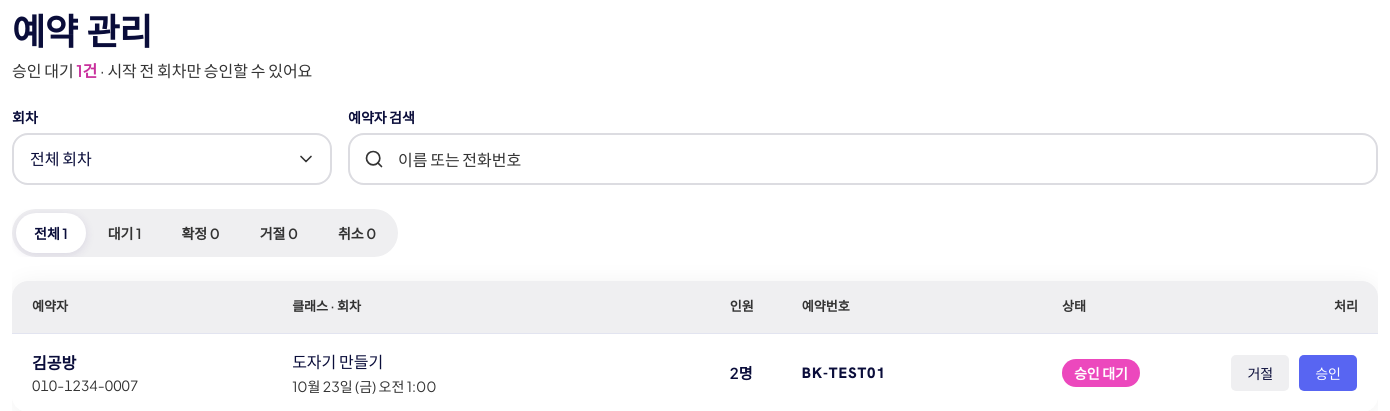
AdminBookingList 처리 › R-20: 승인은 바로 POST하고 ['admin'] 접두 쿼리를 무효화한다
The image size is (1390, 411).
Expected: the text "김공방" is shown, [32,352,76,373]
Click the button "승인" at (1328, 373), box [1298,354,1358,392]
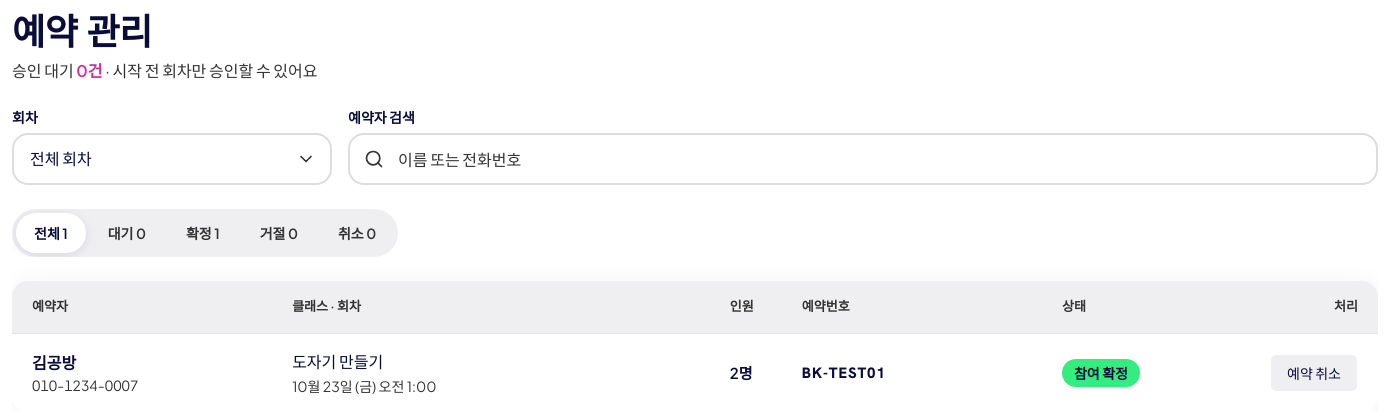
Expected: the text "참여 확정" is shown, [1062,359,1140,387]
